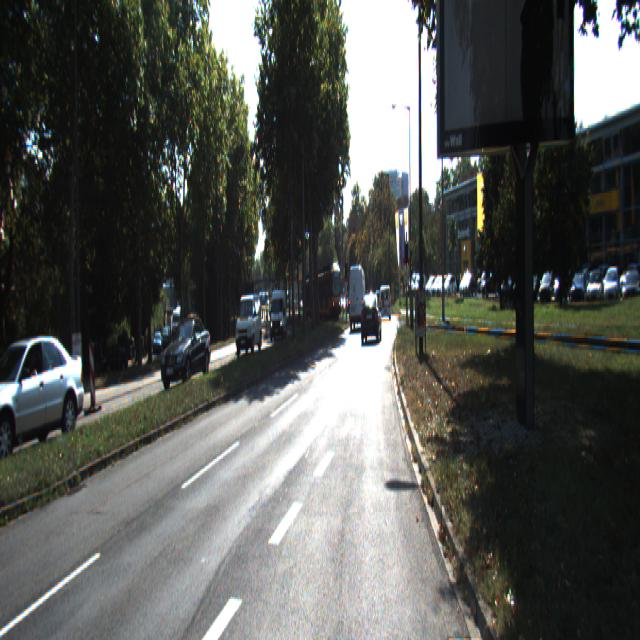Car: (0, 325, 87, 470), (161, 312, 211, 389), (308, 268, 343, 323), (235, 293, 262, 356), (348, 265, 367, 331), (361, 294, 382, 344), (270, 289, 288, 344), (380, 284, 391, 320)
